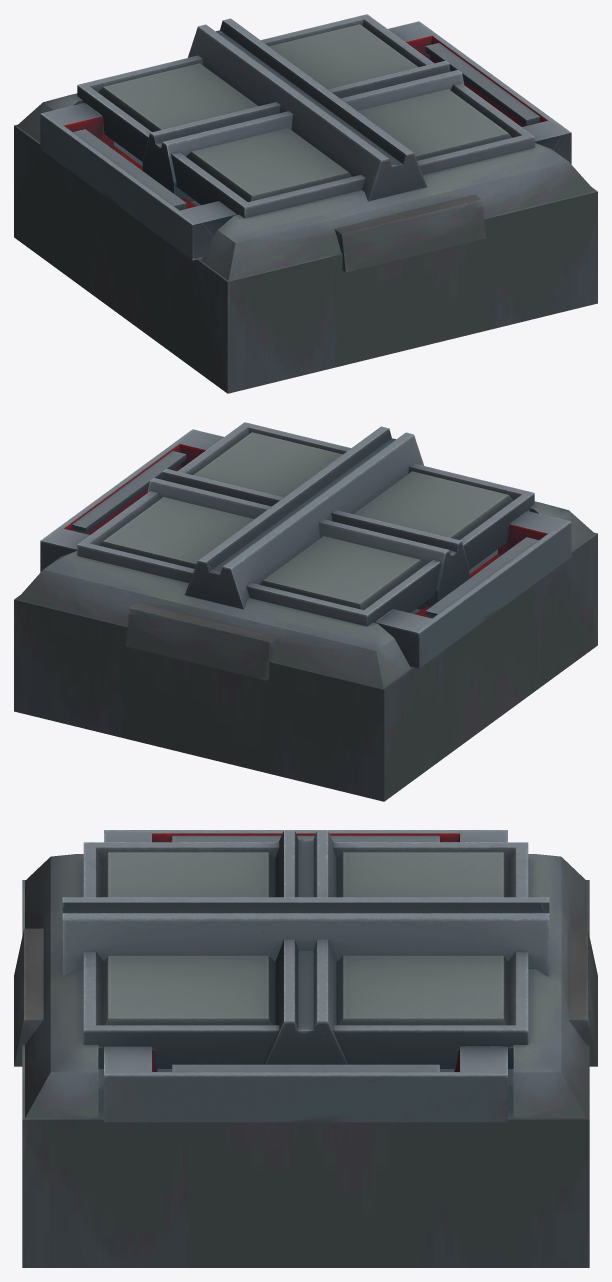
Rendered from trap_139_dhtl.fbx.
3 views of the same model, one above another, from view 1: azimuth 30°, elevation 25°; view 2: azimuth 150°, elevation 25°; view 3: azimuth 270°, elevation 25° (orthographic). The views are drawn at different scales.
Parts seen in each view (by area): view 1: trap_139_dhtl; view 2: trap_139_dhtl; view 3: trap_139_dhtl.
Part boxes in pixels (bbox=[...]): trap_139_dhtl: bbox=[14, 14, 597, 393]; trap_139_dhtl: bbox=[14, 422, 597, 801]; trap_139_dhtl: bbox=[14, 830, 597, 1267].
Size of the model in its own units: 1.02 by 0.4669 by 1.03.
1 material, 1 textured.
